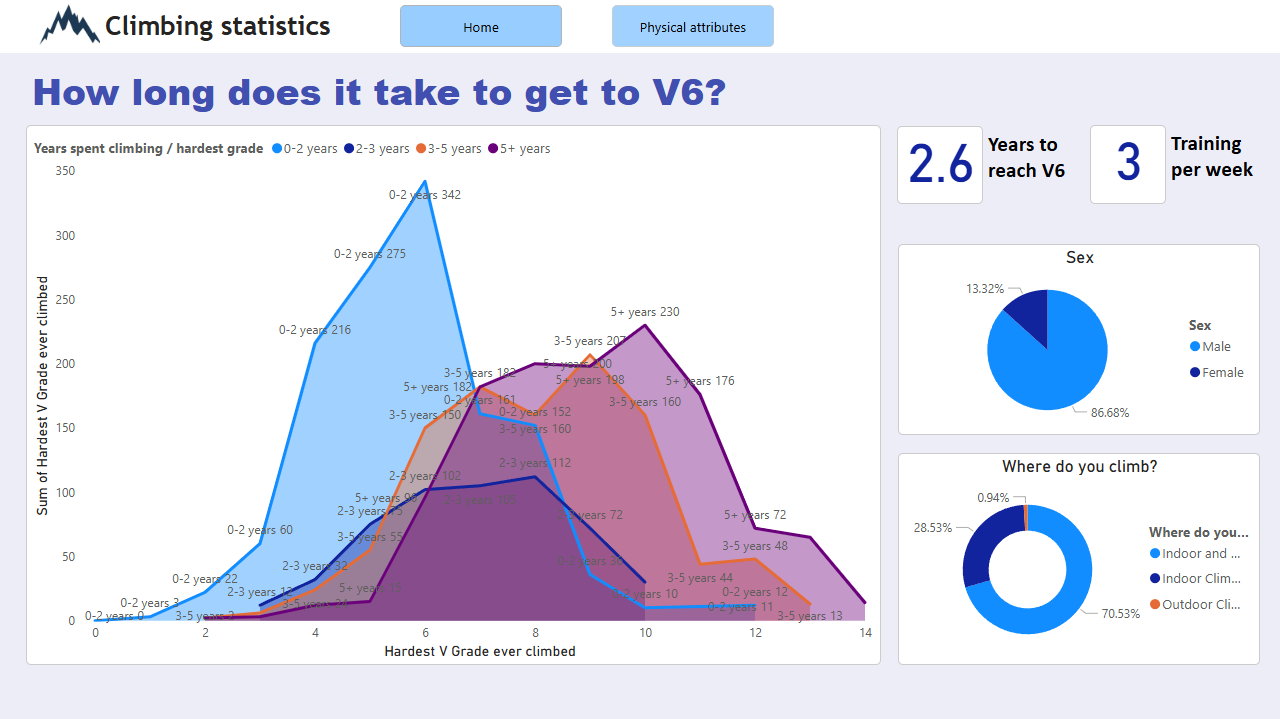

Layout of this report page (visuals, bound fields, positions):
{"tool":"powerbi","page":{"name":"Home","canvas":[1280,720],"ordinal":0},"visuals":[{"type":"donutChart","title":"Where do you climb?","fields":{"Category":["Climbharder #V3 (Responses) - Form responses 1.Where do you climb?"],"Y":["CountNonNull(Climbharder #V3 (Responses) - Form responses 1.Where do you climb?)"]},"box":[897.5,453.8,362.5,212.5],"z":0},{"type":"pieChart","title":"Sex","fields":{"Category":["Climbharder #V3 (Responses) - Form responses 1.Sex"],"Y":["CountNonNull(Climbharder #V3 (Responses) - Form responses 1.Sex)"]},"box":[897.5,245,362.5,191.2],"z":1000},{"type":"lineChart","fields":{"Category":["Climbharder #V3 (Responses) - Form responses 1.Hardest V Grade ever climbed "],"Y":["Sum(Climbharder #V3 (Responses) - Form responses 1.Hardest V Grade ever climbed )"],"Series":["Climbharder #V3 (Responses) - Form responses 1.How long have you been climbing for? (groups)"]},"box":[26.2,126,854.6,540.2],"z":2000},{"type":"shape","box":[0,0,1280,54.3],"z":3000},{"type":"card","title":"Avg. V grade","fields":{"Values":["Avg(Climbharder #V3 (Responses) - Form responses 1.Column)"]},"box":[897.3,126.7,86.2,78.6],"z":4000},{"type":"pageNavigator","box":[400,6.2,373.8,41.2],"z":5000},{"type":"textbox","box":[983.4,126.7,106.5,78.6],"z":6000},{"type":"card","title":"Avg. V grade","fields":{"Values":["Avg(Climbharder #V3 (Responses) - Form responses 1.Frequency of climbing sessions per week)"]},"box":[1090,126.2,76.2,78.8],"z":7000},{"type":"textbox","box":[1166.2,126.2,105,78.8],"z":8000},{"type":"image","box":[26.2,0,90,53.8],"z":9000},{"type":"textbox","box":[100,6.2,300,47.5],"z":10000},{"type":"textbox","title":"How long does it take to get to V6?","box":[26.6,65.9,707.2,60.8],"z":11000}]}

Visuals, with their boxes in screenshot pixels (x1, y1, x2, y2), scaled from the page's 1280x720 canvas onto the 1280x719 screenshot:
"Where do you climb?" donutChart: bbox(898, 453, 1260, 665)
"Sex" pieChart: bbox(898, 245, 1260, 436)
lineChart - Climbharder #V3 (Responses) - Form responses 1.Hardest V Grade ever climbed  x Sum(Climbharder #V3 (Responses) - Form responses 1.Hardest V Grade ever climbed ): bbox(26, 126, 881, 665)
shape: bbox(0, 0, 1279, 54)
"Avg. V grade" card: bbox(897, 127, 984, 205)
pageNavigator: bbox(400, 6, 774, 47)
textbox: bbox(983, 127, 1090, 205)
"Avg. V grade" card: bbox(1090, 126, 1166, 205)
textbox: bbox(1166, 126, 1271, 205)
image: bbox(26, 0, 116, 54)
textbox: bbox(100, 6, 400, 54)
"How long does it take to get to V6?" textbox: bbox(27, 66, 734, 127)
